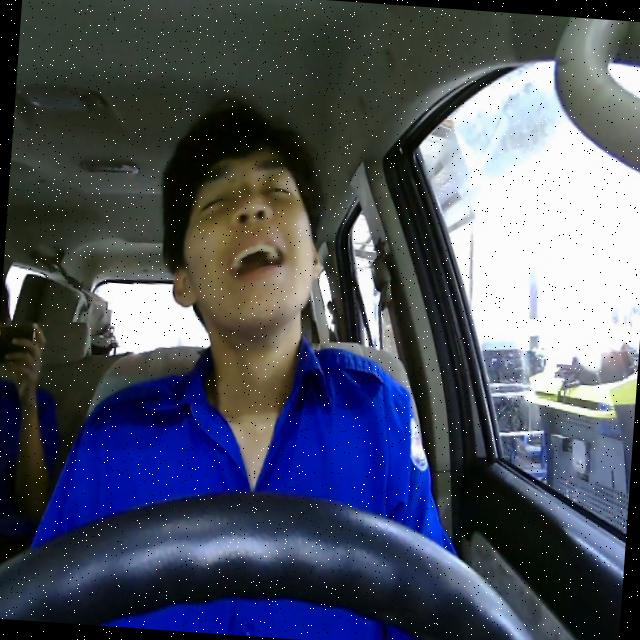yarning: (166, 132, 330, 338)
